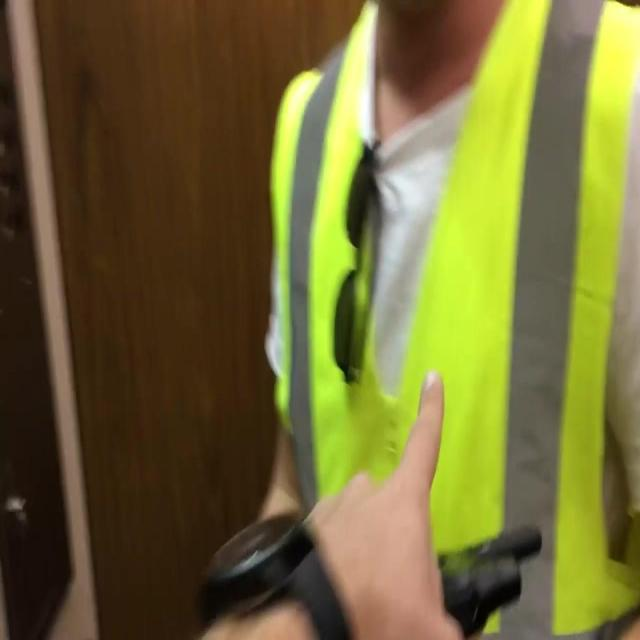Vest: (265, 1, 639, 639)
